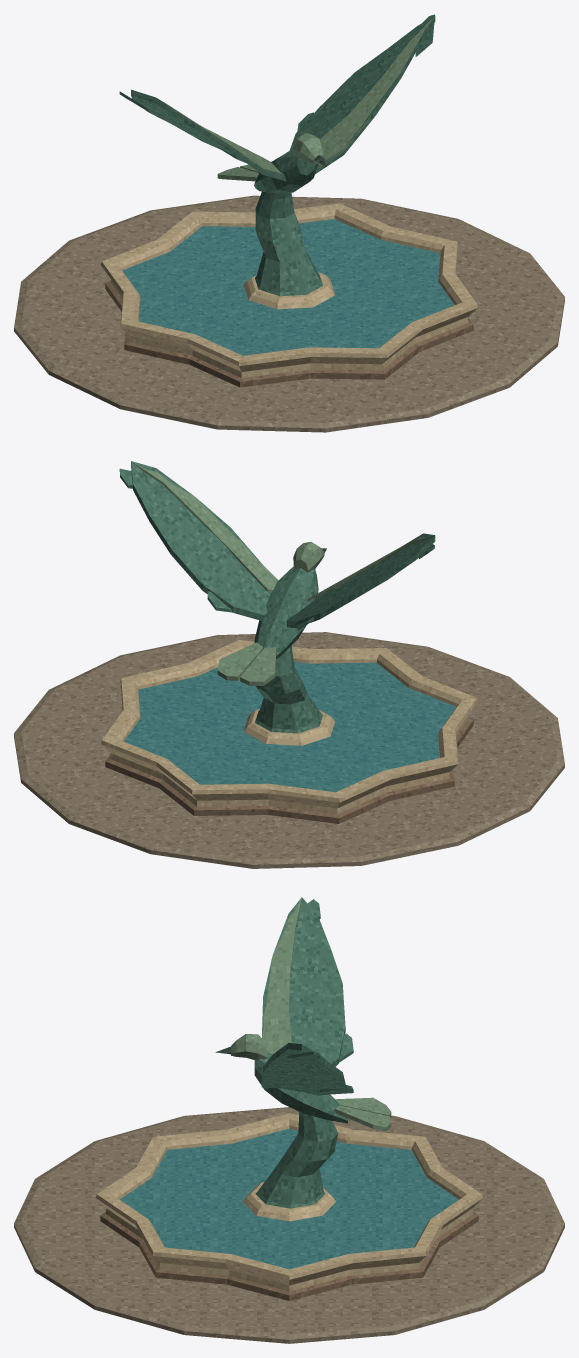
File: dove-fountain-far.glb
3 renders of one model, top to bottom at view 1: azimuth 30°, elevation 25°; view 2: azimuth 150°, elevation 25°; view 3: azimuth 270°, elevation 25°, orthographic.
Parts seen in each view (by area): view 1: Raised circular paving, water_basin_surface, Shell basin wall, Bronze wave supporting the dove, Upturned wing.001, Lower stone course, Leading edge.001, Upturned wing, Rising dove breast, Stone wave collar, Leading edge, Dove head and neck; view 2: Raised circular paving, water_basin_surface, Shell basin wall, Upturned wing.001, Lower stone course, Bronze wave supporting the dove, Rising dove breast, Upturned wing, Leading edge.001, Stone wave collar, Fanned tail.001, Fanned tail (+2 smaller); view 3: Raised circular paving, water_basin_surface, Shell basin wall, Upturned wing, Bronze wave supporting the dove, Lower stone course, Leading edge, Upturned wing.001, Rising dove breast, Stone wave collar, Fanned tail.001, Dove head and neck (+1 smaller).
Part boxes in pixels (x1,y1,x2,y2): Raised circular paving: [14, 195, 564, 432]; water_basin_surface: [122, 219, 454, 355]; Shell basin wall: [101, 203, 477, 377]; Bronze wave supporting the dove: [255, 191, 322, 296]; Upturned wing.001: [289, 16, 435, 174]; Lower stone course: [105, 281, 473, 387]; Leading edge.001: [316, 16, 435, 169]; Upturned wing: [131, 90, 286, 181]; Rising dove breast: [254, 148, 318, 193]; Stone wave collar: [244, 272, 334, 309]; Leading edge: [131, 89, 283, 176]; Dove head and neck: [293, 133, 324, 163]; Raised circular paving: [14, 632, 564, 868]; water_basin_surface: [124, 661, 456, 792]; Shell basin wall: [101, 640, 477, 814]; Upturned wing.001: [131, 461, 271, 620]; Lower stone course: [105, 717, 473, 823]; Bronze wave supporting the dove: [255, 646, 322, 733]; Rising dove breast: [254, 567, 318, 659]; Upturned wing: [286, 533, 435, 627]; Leading edge.001: [132, 461, 278, 592]; Stone wave collar: [244, 709, 334, 745]; Fanned tail.001: [217, 642, 263, 680]; Fanned tail: [240, 647, 276, 685]; Raised circular paving: [14, 1107, 564, 1343]; water_basin_surface: [120, 1128, 458, 1269]; Shell basin wall: [96, 1113, 482, 1291]; Upturned wing: [262, 897, 345, 1066]; Bronze wave supporting the dove: [256, 1111, 337, 1208]; Lower stone course: [100, 1212, 478, 1300]; Leading edge: [262, 897, 301, 1054]; Upturned wing.001: [261, 1043, 345, 1095]; Rising dove breast: [254, 1052, 347, 1123]; Stone wave collar: [242, 1182, 336, 1221]; Fanned tail.001: [334, 1105, 391, 1131]; Dove head and neck: [231, 1034, 266, 1060].
Size of the model in its own units: 11.9 by 6.12 by 11.9.
7 materials, 7 textured.
